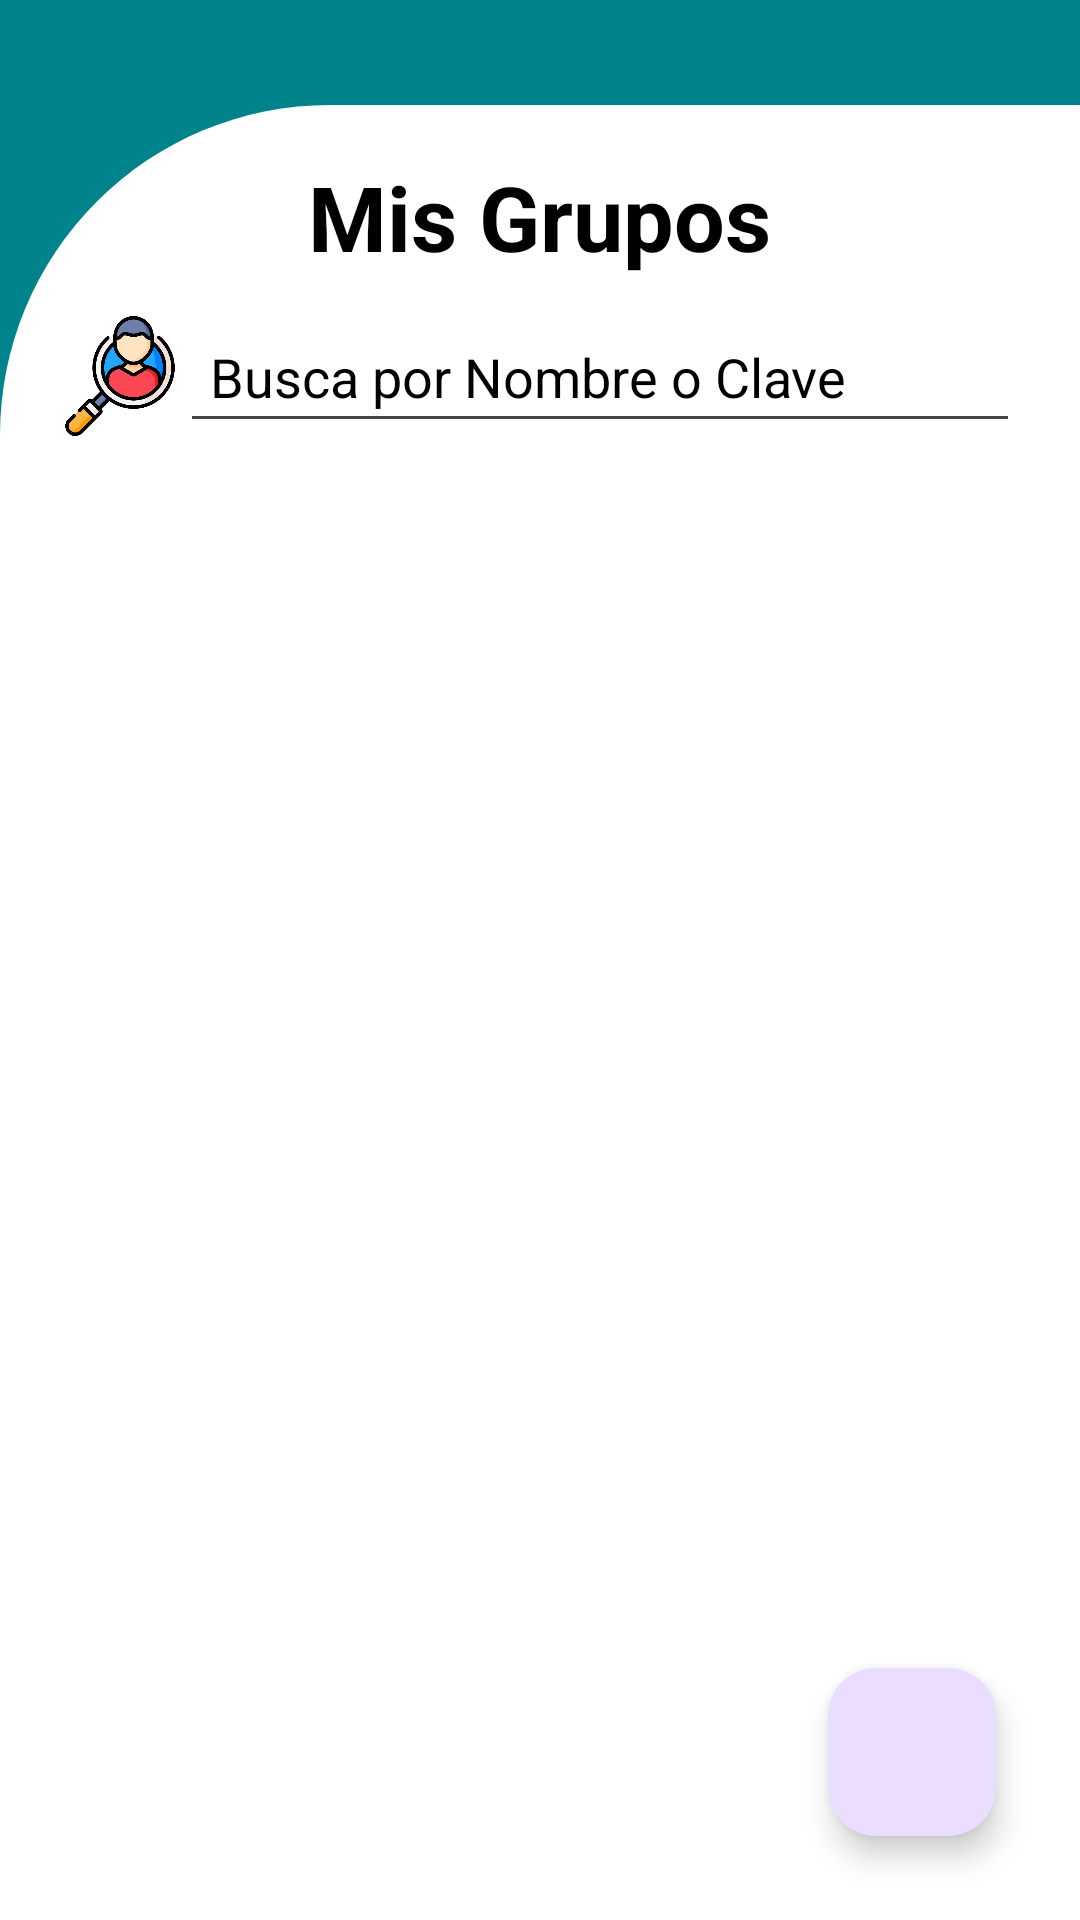

Screen size 1080px×1920px. Icon name, then its center in pixels as [x,y]:
lupa: [120,376]
